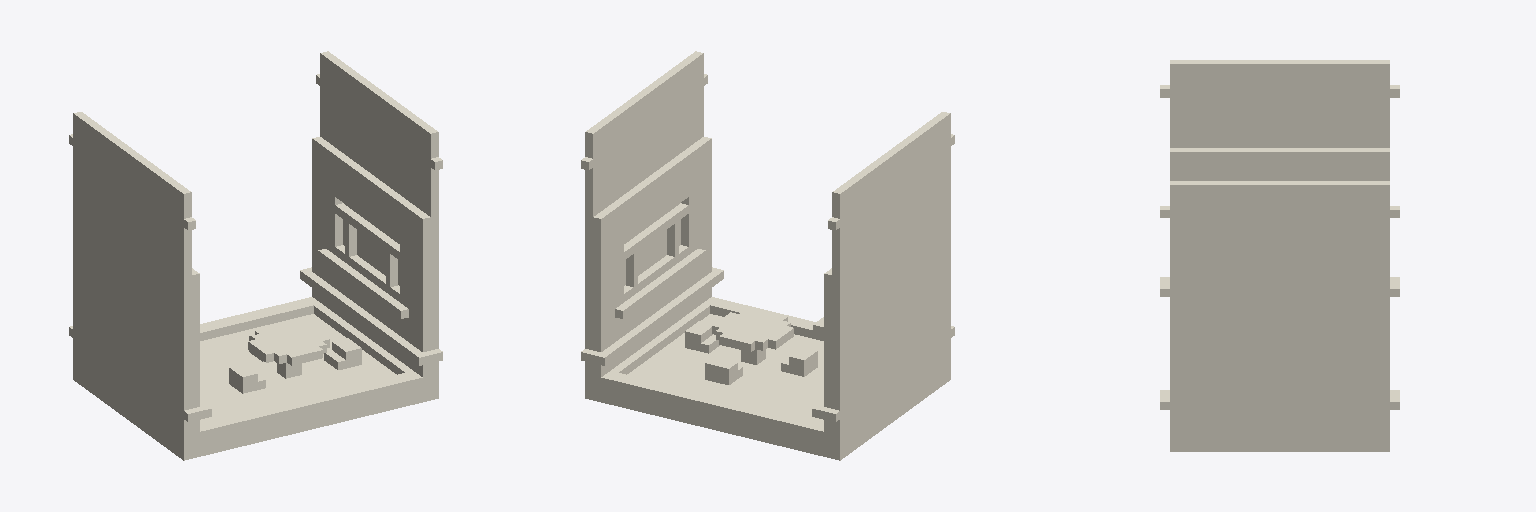
3 views of the same model, side by side, from view 1: azimuth 30°, elevation 25°; view 2: azimuth 150°, elevation 25°; view 3: azimuth 270°, elevation 25° (orthographic).
Parts seen in each view (by area): view 1: object 1; view 2: object 1; view 3: object 1.
Part boxes in pixels (x1,y1,x2,y2): object 1: (69,51,442,460); object 1: (581,51,954,460); object 1: (1160,60,1399,451).
Bounding box in the file's own units: 3.2 × 3.2 × 2.6.
1 materials, 1 textured.